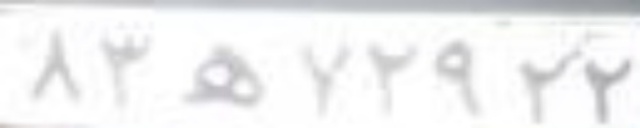2: (366, 41, 422, 114), (516, 54, 571, 122), (582, 57, 632, 121)
3: (94, 31, 156, 104)
7: (296, 41, 353, 116)
8: (20, 28, 85, 106)
9: (431, 42, 483, 118)
he: (181, 44, 262, 105)
